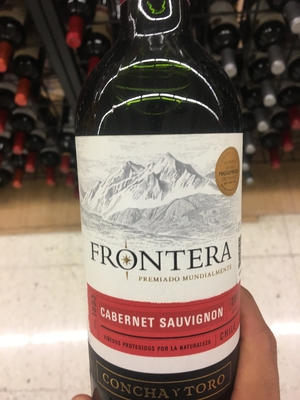frontera cabernet sauvignon: (73, 6, 254, 400)
